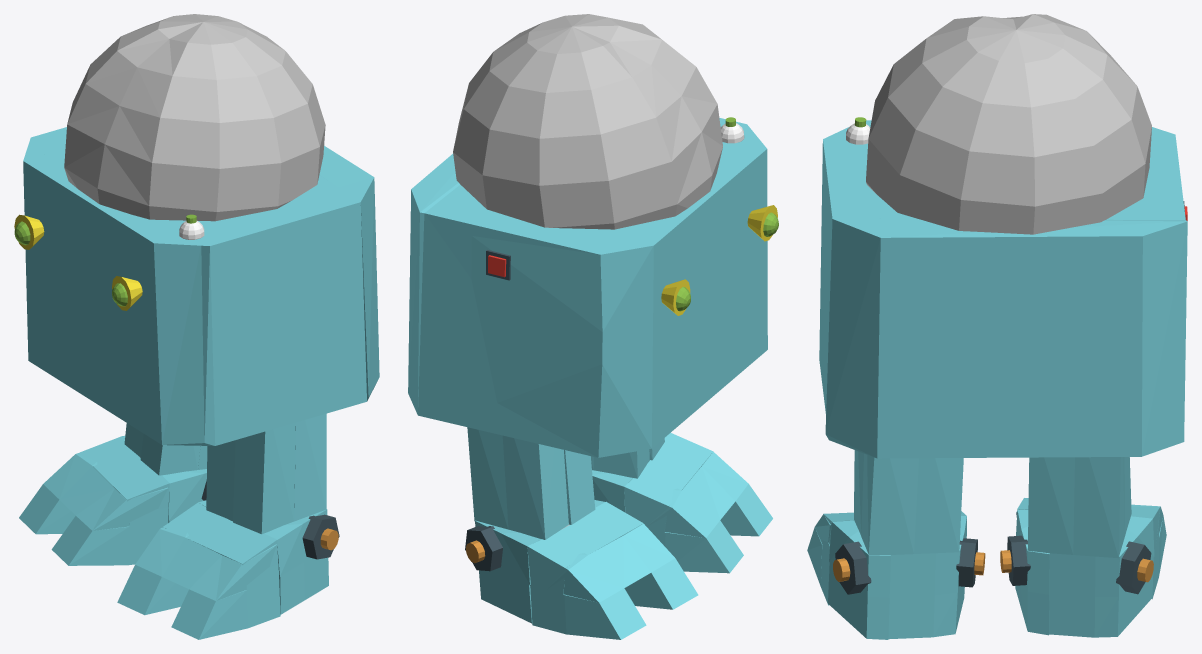
3 views of the same model, side by side, from view 1: azimuth 30°, elevation 25°; view 2: azimuth 150°, elevation 25°; view 3: azimuth 270°, elevation 25° (orthographic). The views are drawn at different scales.
Visible parts, largest first — view 1: mesh_1298356889, mesh_831063644, mesh_1114043176, mesh_897644658, mesh_1082974923, mesh_1949781673, mesh_1281313845, mesh_1779959253, mesh_1185915811, mesh_1232502358, mesh_7788286, mesh_1875055032 (+23 smaller); view 2: mesh_1298356889, mesh_1824285426, mesh_1232502358, mesh_1114043176, mesh_807279884, mesh_1949781673, mesh_1082974923, mesh_2099938364, mesh_1243408589, mesh_1875055032, mesh_1185915811, mesh_284741047 (+22 smaller); view 3: mesh_1232502358, mesh_1298356889, mesh_831063644, mesh_1281313845, mesh_2099938364, mesh_1764570328, mesh_1926183722, mesh_1532087948, mesh_1658001634, mesh_1069375396, mesh_13086816, mesh_1827205549 (+15 smaller).
Boxes of the visible parts, bbox=[...] form: mesh_1298356889: bbox=[64, 14, 325, 221]; mesh_831063644: bbox=[199, 177, 379, 445]; mesh_1114043176: bbox=[68, 187, 215, 445]; mesh_897644658: bbox=[233, 422, 295, 534]; mesh_1082974923: bbox=[46, 170, 75, 388]; mesh_1949781673: bbox=[23, 152, 64, 374]; mesh_1281313845: bbox=[294, 413, 326, 521]; mesh_1779959253: bbox=[171, 589, 247, 639]; mesh_1185915811: bbox=[51, 516, 129, 565]; mesh_1232502358: bbox=[31, 127, 373, 229]; mesh_7788286: bbox=[189, 544, 276, 600]; mesh_1875055032: bbox=[117, 564, 188, 615]; mesh_1298356889: bbox=[453, 14, 722, 229]; mesh_1824285426: bbox=[471, 236, 653, 457]; mesh_1232502358: bbox=[408, 142, 730, 457]; mesh_1114043176: bbox=[686, 124, 767, 414]; mesh_807279884: bbox=[502, 435, 568, 539]; mesh_1949781673: bbox=[620, 222, 673, 448]; mesh_1082974923: bbox=[647, 210, 693, 431]; mesh_2099938364: bbox=[467, 427, 508, 529]; mesh_1243408589: bbox=[564, 588, 646, 639]; mesh_1875055032: bbox=[665, 520, 743, 573]; mesh_1185915811: bbox=[624, 558, 698, 609]; mesh_284741047: bbox=[527, 533, 591, 594]; mesh_1232502358: bbox=[875, 134, 1187, 458]; mesh_1298356889: bbox=[866, 14, 1151, 234]; mesh_831063644: bbox=[819, 139, 880, 458]; mesh_1281313845: bbox=[861, 453, 918, 554]; mesh_2099938364: bbox=[1073, 457, 1124, 558]; mesh_1764570328: bbox=[1027, 457, 1074, 554]; mesh_1926183722: bbox=[914, 458, 963, 553]; mesh_1532087948: bbox=[888, 595, 934, 639]; mesh_1658001634: bbox=[889, 553, 935, 596]; mesh_1069375396: bbox=[1049, 553, 1095, 596]; mesh_13086816: bbox=[1049, 594, 1094, 637]; mesh_1827205549: bbox=[847, 591, 889, 639].
Size of the model in its own units: 57.93 by 112 by 66.22.
